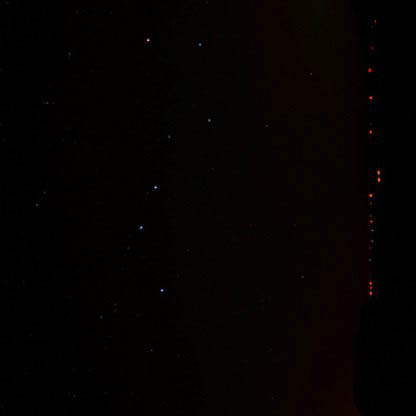Ursa Major: (127, 213, 153, 243), (144, 174, 165, 200), (148, 128, 176, 147), (189, 33, 212, 56), (199, 106, 219, 130), (153, 277, 172, 301), (140, 31, 159, 52)
